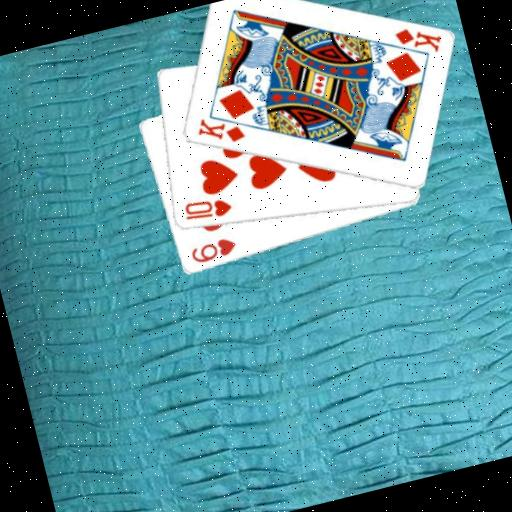10H: (179, 191, 235, 228)
6H: (185, 234, 240, 269)
KD: (191, 106, 248, 153), (389, 17, 446, 63)
